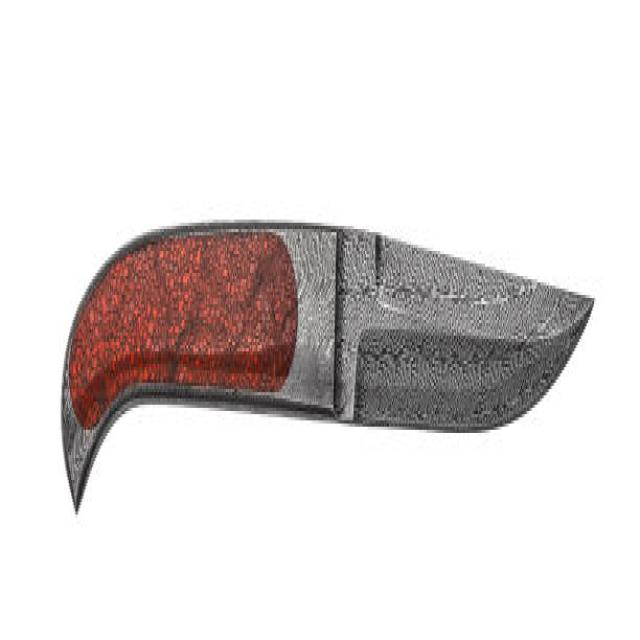knife: (59, 201, 602, 543)
